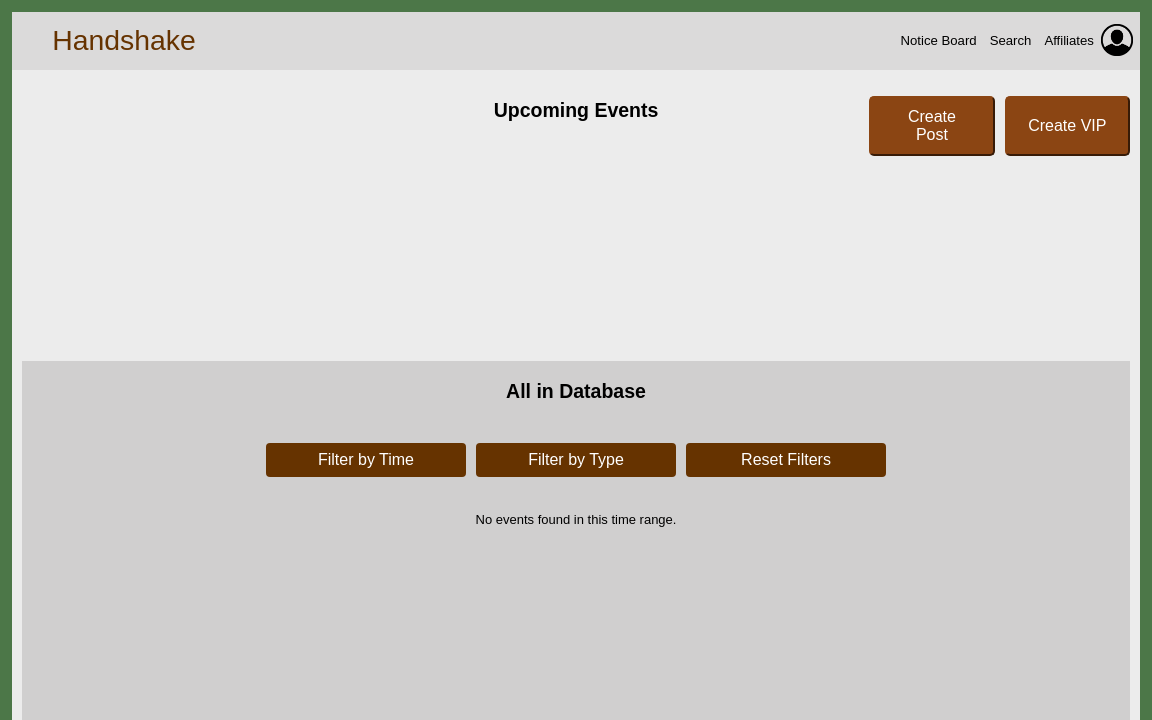
Scenario: Noticeboard Component › filters events by date
Click the button "Filter by Time": (366,460) [266, 443, 466, 477]
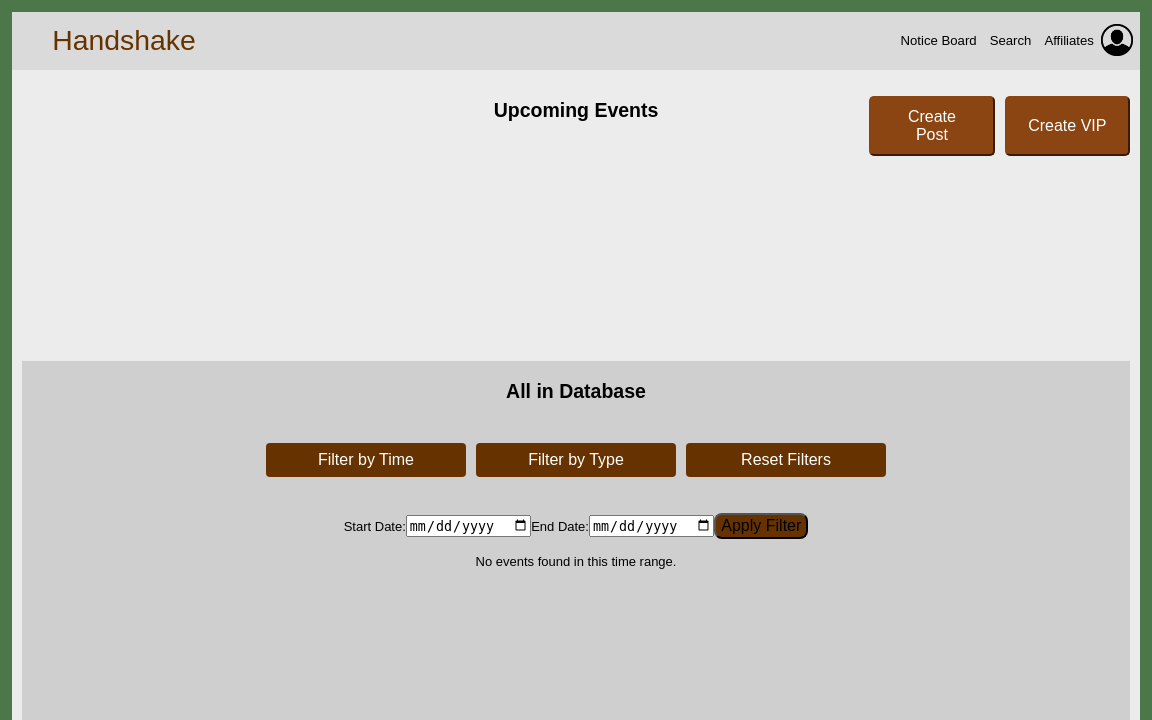
In the date field labelled "Start Date:": (468,526) [406, 516, 531, 537], type "2023-12-01"
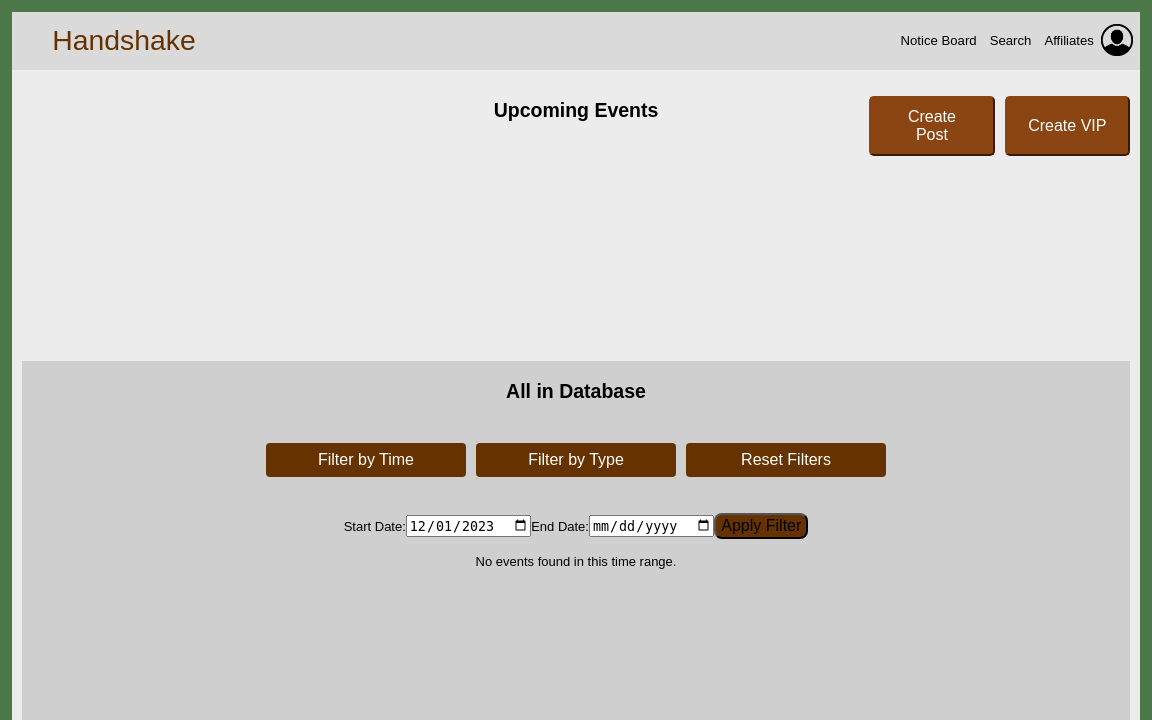
In the date field labelled "End Date:": (652,526) [589, 516, 714, 537], type "2023-12-31"
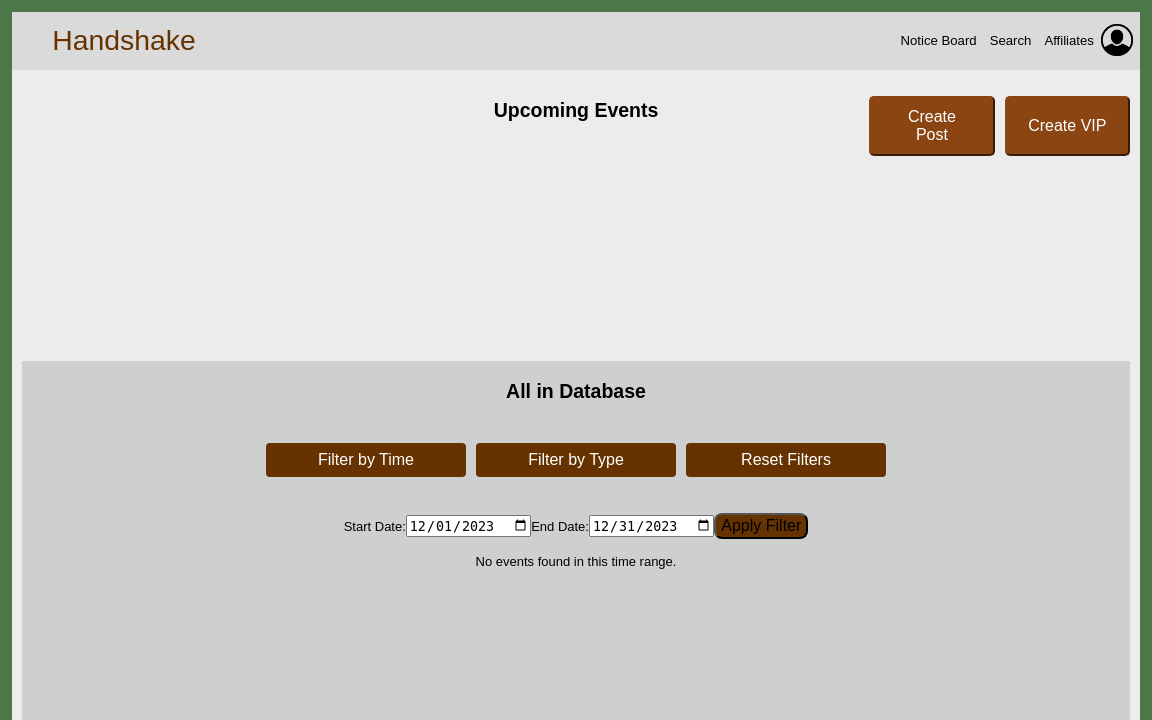
Click the button "Apply Filter": (761,526) [714, 513, 808, 539]
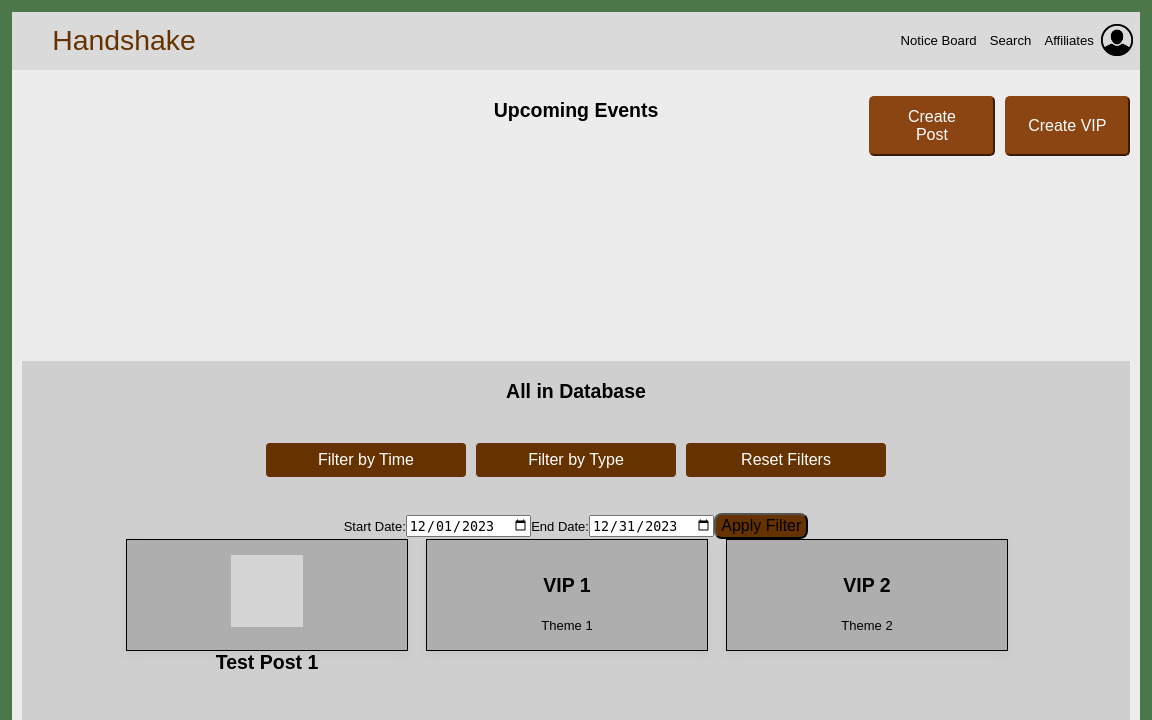
Expected: the heading "Test Post 1" is shown, [216, 651, 318, 673]
